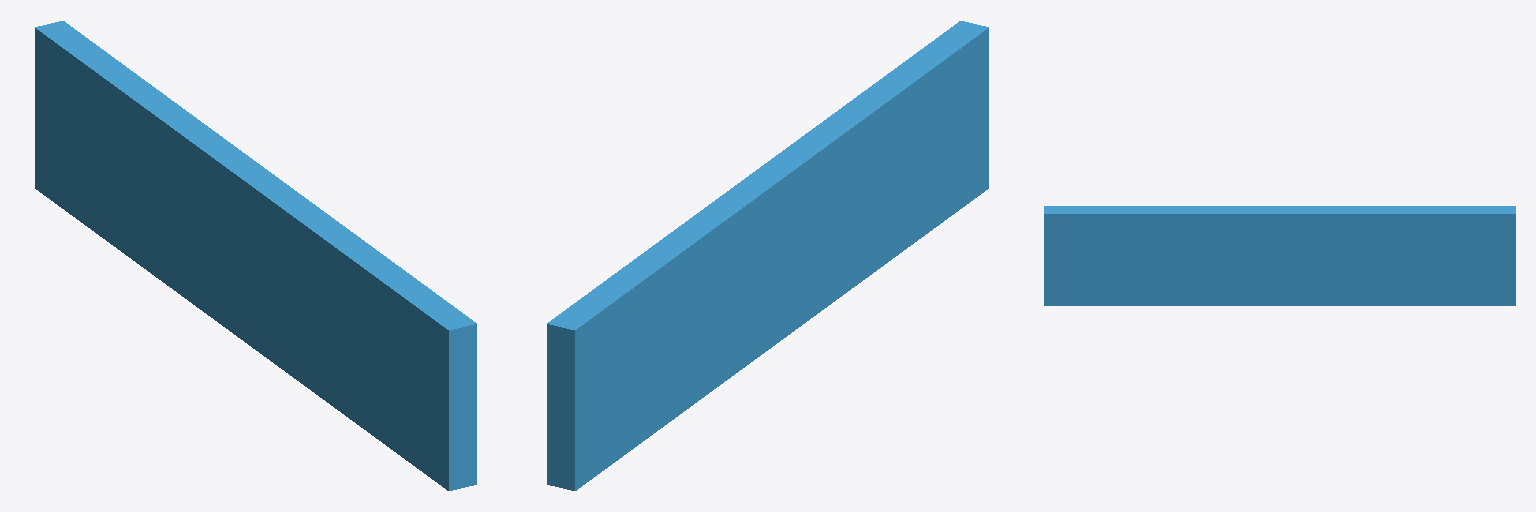
The robot description file, URDF, robot "box_21":
<?xml version="1.0" encoding="utf-8"?>    
    
    <robot name="box_21">
        <link name="box_21">    
            <fem>
                <origin rpy="0.0 0.0 0.0" xyz="0 0 0" />
                <density value="100" />
                <youngs value="4523"/>
                <poissons value="0.3"/>
                <damping value="0.0" /> 
                <attachDistance value="0.01"/>
                <tetmesh filename="../../../../Custom_mesh/physical_dvrk/multi_box_5kPa/box_21.tet"/>
                <scale value="1.0"/>
            </fem>
        </link>
        
        <link name="fix_frame">
            <visual>
                <origin xyz="-10.098 0.0 0.0"/>              
                <geometry>
                    <box size="0.005 0.126 0.027"/>
                </geometry>
            </visual>
            <collision>
                <origin xyz="-0.098 0.0 0.0"/>              
                <geometry>
                    <box size="0.005 0.126 0.027"/>
                </geometry>
            </collision>
            <inertial>
                <mass value="500000"/>
                <inertia ixx="0.05" ixy="0.0" ixz="0.0" iyy="0.05" iyz="0.0" izz="0.05"/>
            </inertial>
        </link>
        
        <joint name = "attach" type = "fixed">
            <origin xyz = "0.0 0.0 0.0" rpy = "0 0 0"/>
            <parent link = "box_21"/>
            <child link = "fix_frame"/>
        </joint>  
        
    </robot>
    

--- Facts derived from the render (not from the file) ---
Views: 3 orthographic renders of the robot side by side, from view 1: azimuth 30°, elevation 25°; view 2: azimuth 150°, elevation 25°; view 3: azimuth 270°, elevation 25°.
Robot: box_21 — 2 links, 1 joints (1 fixed); root link box_21; default pose: every joint at zero.
Visible links, largest first — view 1: fix_frame; view 2: fix_frame; view 3: fix_frame.
Link boxes in pixels (x1,y1,x2,y2): fix_frame: (35, 21, 476, 490); fix_frame: (547, 21, 988, 490); fix_frame: (1044, 206, 1515, 305).
Bounding box of the posed robot: 0.005 × 0.126 × 0.027 m (x, y, z).
Geometry: primitives only (box / cylinder / sphere), no mesh files.